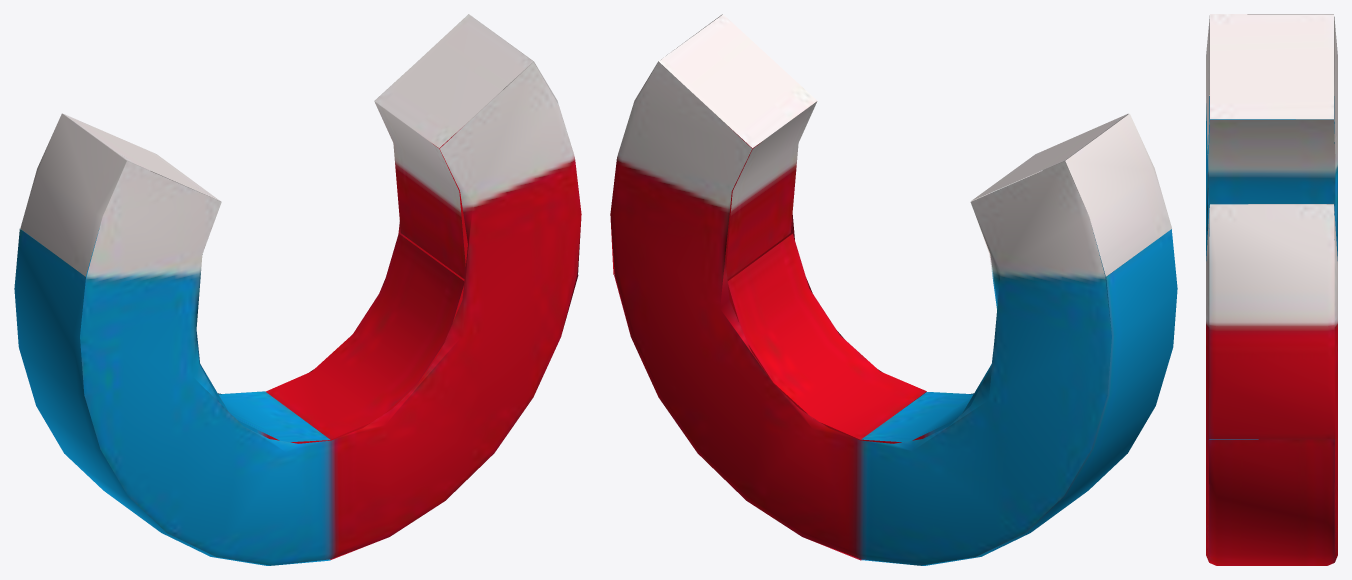
File: magnet.glb
3 views of the same model, side by side, from view 1: azimuth 30°, elevation 25°; view 2: azimuth 150°, elevation 25°; view 3: azimuth 270°, elevation 25° (orthographic). The views are drawn at different scales.
Parts seen in each view (by area): view 1: GEN_magnet; view 2: GEN_magnet; view 3: GEN_magnet.
Boxes of the visible parts, x1=… form: GEN_magnet: x1=14, y1=14, x2=581, y2=565; GEN_magnet: x1=610, y1=14, x2=1177, y2=565; GEN_magnet: x1=1206, y1=14, x2=1337, y2=565.
Bounding box in the file's own units: 0.5 × 0.4231 × 0.1175.
1 material, 1 textured.
